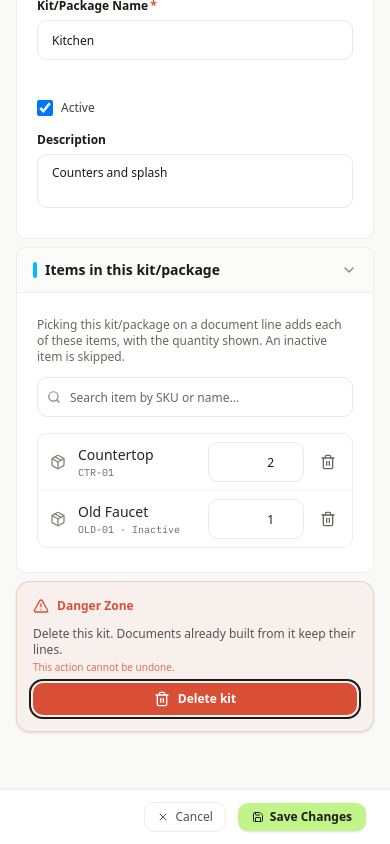
EditKitPage › refuses a zero quantity before asking the server
This screenshot has width=390, height=844.
(page scrolled)
Expected: the field named "Kit/Package Name" is shown, [37,20,353,60]
Replace the text in the number field named "Quantity of Countertop" with "0" at (256, 462), box [208,442,304,482]
(page scrolled)
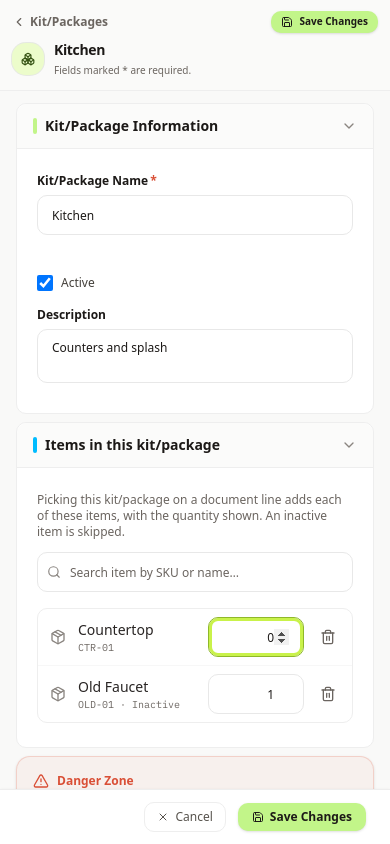
Click the 1st button "Save Changes".
click(325, 22)  # box [272,11,378,33]
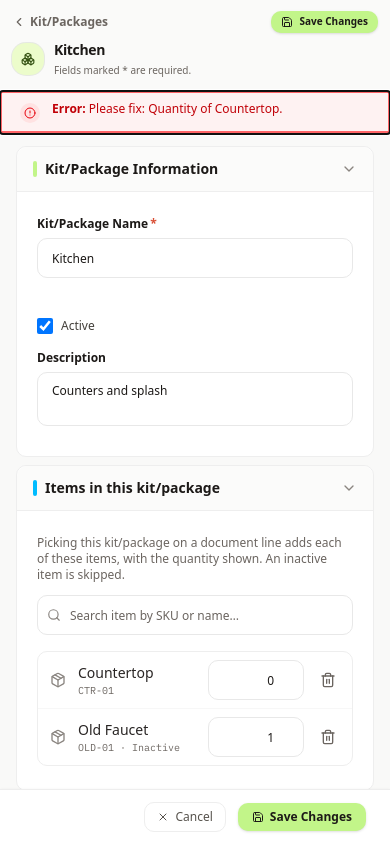
Result: the message shows "Quantity of Countertop" at [89,100,283,117]
